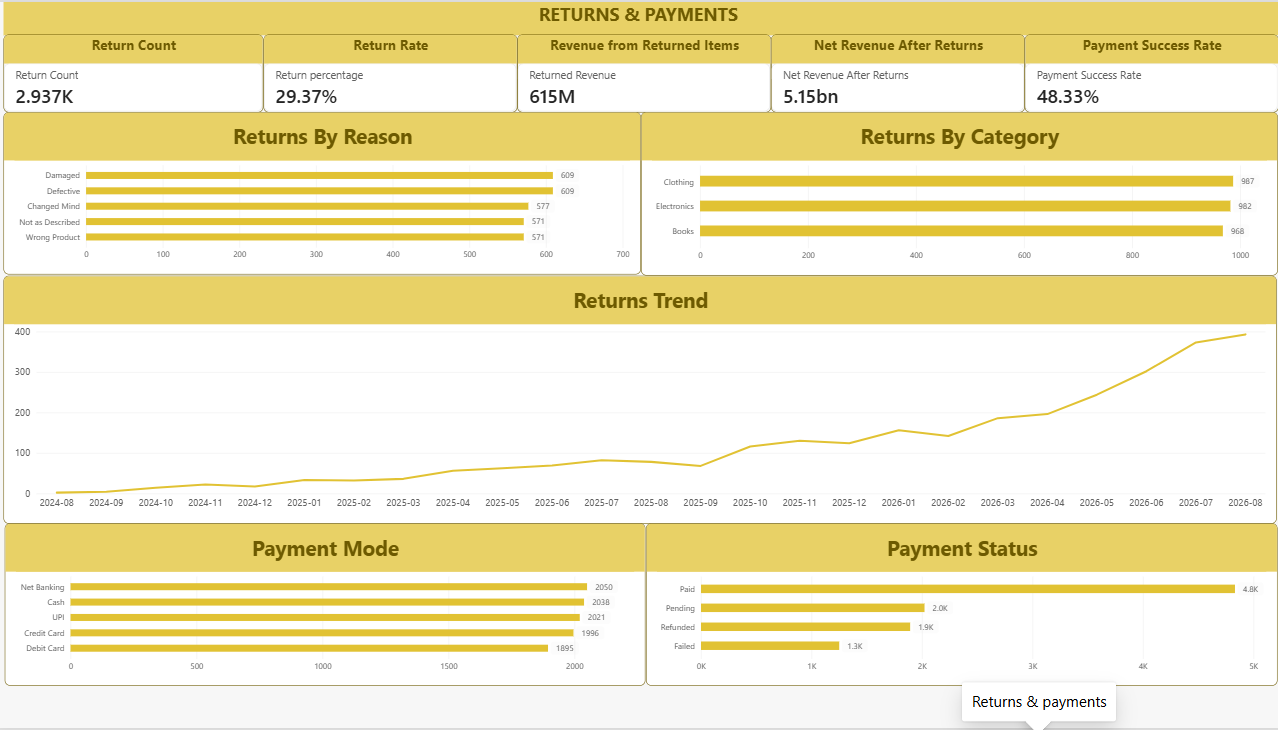

The page's visual inventory and layout, read from the dashboard file:
{"tool":"powerbi","page":{"name":"Returns & payments","canvas":[1920,1080],"ordinal":4},"visuals":[{"type":"textbox","box":[10.3,0,1895.7,49.4],"z":0},{"type":"cardVisual","title":"Return Count","fields":{"Data":["_measures.Return Count"]},"box":[11.1,48.8,386.3,115.8],"z":0,"group":"g1"},{"type":"group","id":"g1","title":"Group 1","box":[11.1,48.8,1896,115.4],"z":1000},{"type":"cardVisual","title":"Return Rate","fields":{"Data":["_measures.Return percentage"]},"box":[397.4,48.8,377.6,115.8],"z":1000,"group":"g1"},{"type":"cardVisual","title":"Revenue from Returned Items","fields":{"Data":["_measures.Returned Revenue"]},"box":[775,48.8,377.6,115.8],"z":2000,"group":"g1"},{"type":"clusteredBarChart","title":"Returns By Category ","fields":{"Category":["DimProduct.Table.category_name"],"Y":["_measures.Return Count"]},"box":[959.1,164.3,946.8,242.9],"z":2000},{"type":"cardVisual","title":"Net Revenue After Returns","fields":{"Data":["_measures.Net Revenue After Returns"]},"box":[1152.6,48.8,377.6,115.8],"z":3000,"group":"g1"},{"type":"clusteredBarChart","title":"Returns By Reason","fields":{"Category":["FactReturns.return_reason"],"Y":["_measures.Return Count"]},"box":[11.1,164.3,948,242],"z":3000},{"type":"cardVisual","title":"Payment Success Rate","fields":{"Data":["_measures.Payment Success Rate"]},"box":[1530.3,48.8,377.6,115.8],"z":4000,"group":"g1"},{"type":"lineChart","title":"Returns Trend","fields":{"Category":["DimDate.Year Month"],"Y":["_measures.Return Count"]},"box":[11.1,406.3,1893.8,368.5],"z":4000},{"type":"clusteredBarChart","title":"Payment Mode","fields":{"Category":["FactPayments.payment_mode"],"Y":["_measures.Payment count"]},"box":[13.3,774.8,952.5,242],"z":5000},{"type":"clusteredBarChart","title":"Payment Status","fields":{"Category":["FactPayments.payment_status"],"Y":["_measures.Payment count"]},"box":[965.8,774.8,939.1,242],"z":6000}]}

Visuals, with their boxes in screenshot pixels (x1, y1, x2, y2), scaled from the page's 1920x1080 canvas onto the 1278x730 screenshot:
textbox: BBox(7, 0, 1269, 33)
"Return Count" cardVisual: BBox(7, 33, 265, 111)
"Group 1" group: BBox(7, 33, 1269, 111)
"Return Rate" cardVisual: BBox(265, 33, 516, 111)
"Revenue from Returned Items" cardVisual: BBox(516, 33, 767, 111)
"Returns By Category " clusteredBarChart: BBox(638, 111, 1269, 275)
"Net Revenue After Returns" cardVisual: BBox(767, 33, 1019, 111)
"Returns By Reason" clusteredBarChart: BBox(7, 111, 638, 275)
"Payment Success Rate" cardVisual: BBox(1019, 33, 1270, 111)
"Returns Trend" lineChart: BBox(7, 275, 1268, 524)
"Payment Mode" clusteredBarChart: BBox(9, 524, 643, 687)
"Payment Status" clusteredBarChart: BBox(643, 524, 1268, 687)
